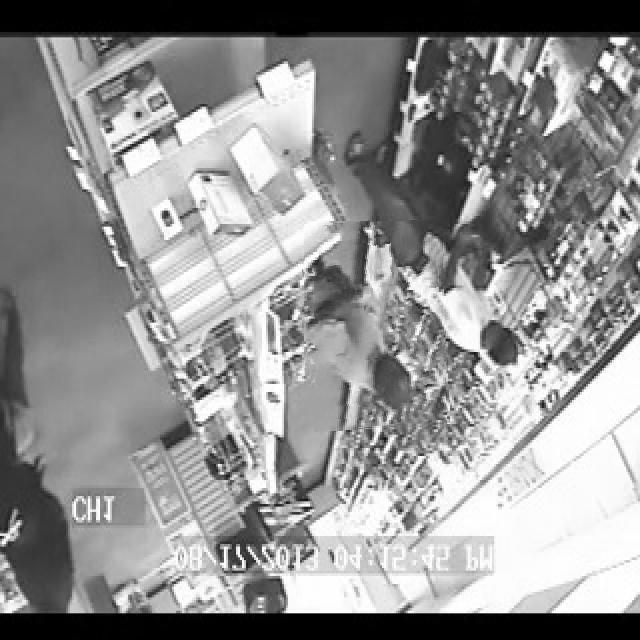Shoplifting: (304, 221, 447, 430)
